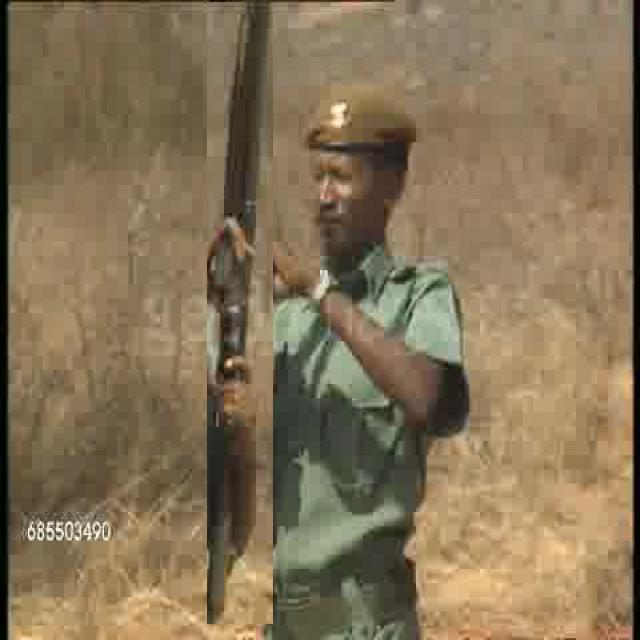poacher: (277, 56, 483, 572)
weapon: (207, 2, 273, 624)
